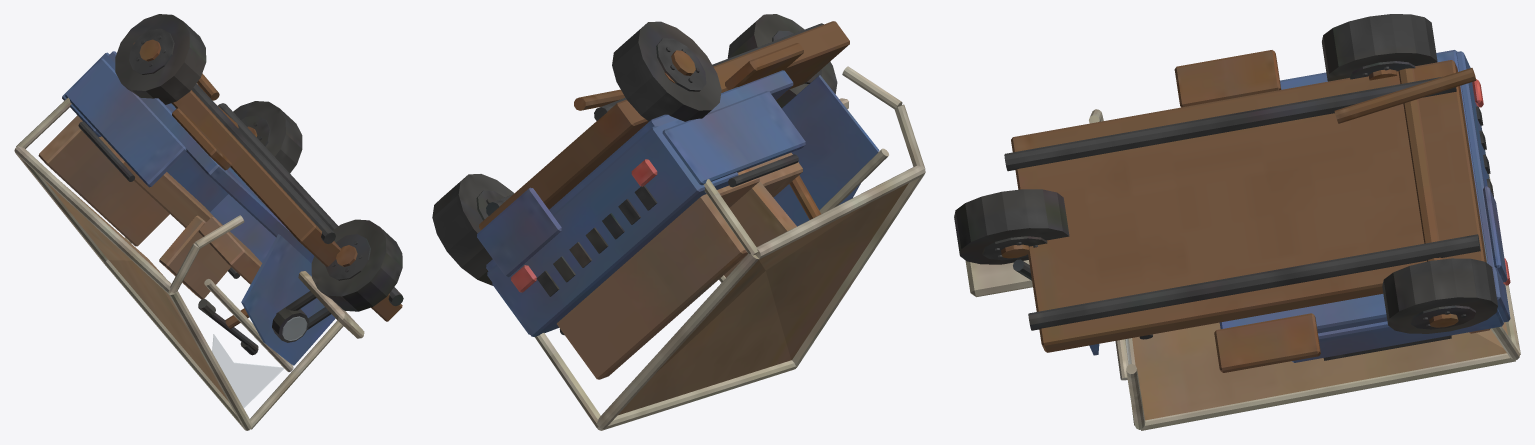
File: JV10_wrecked_auto_rickshaw_v2.glb
The picture shows the model from 3 angles, left to right: view 1: azimuth 30°, elevation 25°; view 2: azimuth 150°, elevation 25°; view 3: azimuth 270°, elevation 25°; orthographic projection. The views are drawn at different scales.
Parts seen in each view (by area): view 1: Exposed ladder chassis; view 2: Exposed ladder chassis; view 3: Exposed ladder chassis.
Boxes of the visible parts, x1,y1,x2,y2 form: Exposed ladder chassis: (14,14,403,430); Exposed ladder chassis: (432,14,925,430); Exposed ladder chassis: (954,14,1520,430).
Bounding box in the file's own units: 2.09 × 2.51 × 3.
9 materials, 8 textured.
